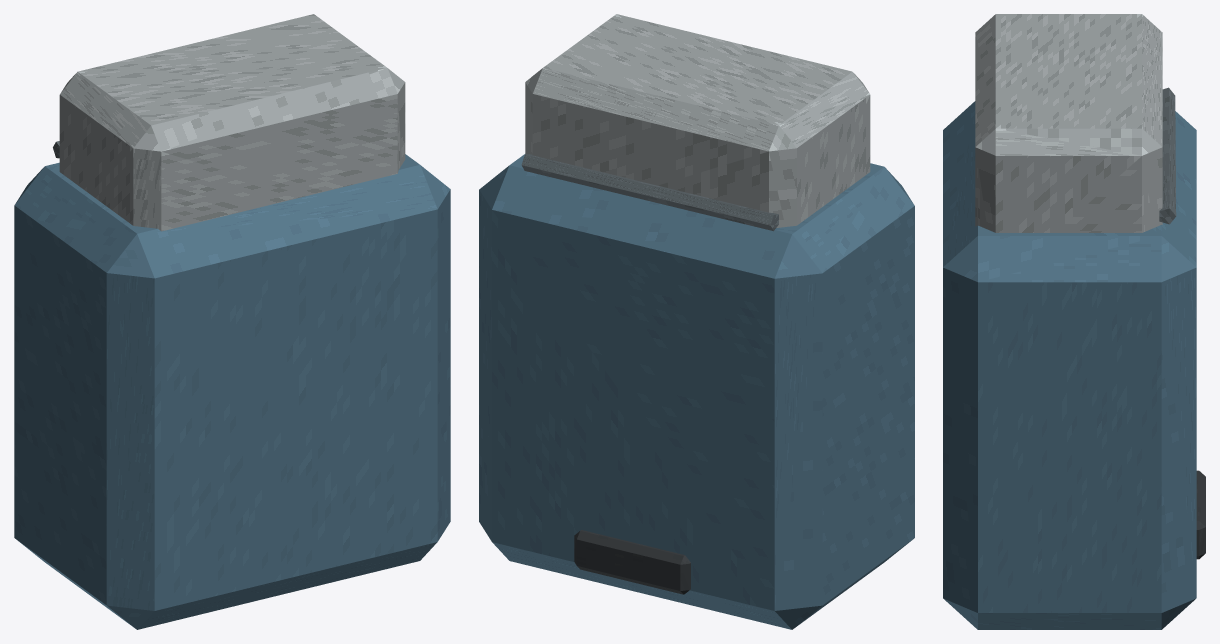
Rendered from electric_lighter.glb.
3 views of the same model, side by side, from view 1: azimuth 30°, elevation 25°; view 2: azimuth 150°, elevation 25°; view 3: azimuth 270°, elevation 25° (orthographic).
Visible parts, largest first — view 1: block_lighter body, block_metal lighter cover; view 2: block_lighter body, block_metal lighter cover, block_charging port cover, block_hinged lid separation 0; view 3: block_lighter body, block_metal lighter cover, block_hinged lid separation 0, block_charging port cover.
Part boxes in pixels (x1,y1,x2,y2): block_lighter body: (14, 154, 450, 629); block_metal lighter cover: (59, 14, 405, 231); block_lighter body: (479, 154, 914, 629); block_metal lighter cover: (525, 14, 870, 227); block_charging port cover: (574, 530, 690, 594); block_hinged lid separation 0: (521, 154, 778, 231); block_lighter body: (943, 101, 1196, 629); block_metal lighter cover: (975, 14, 1162, 232); block_hinged lid separation 0: (1159, 87, 1176, 224); block_charging port cover: (1196, 470, 1205, 559).
Size of the model in its own units: 0.0504 by 0.069 by 0.0336.
Materials: 1 (1 with a texture image).
